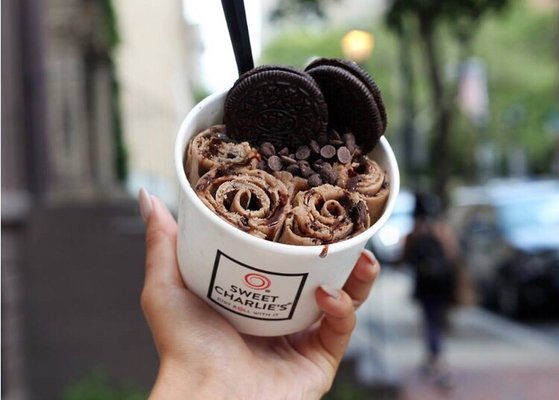pizza: (173, 61, 401, 335)
